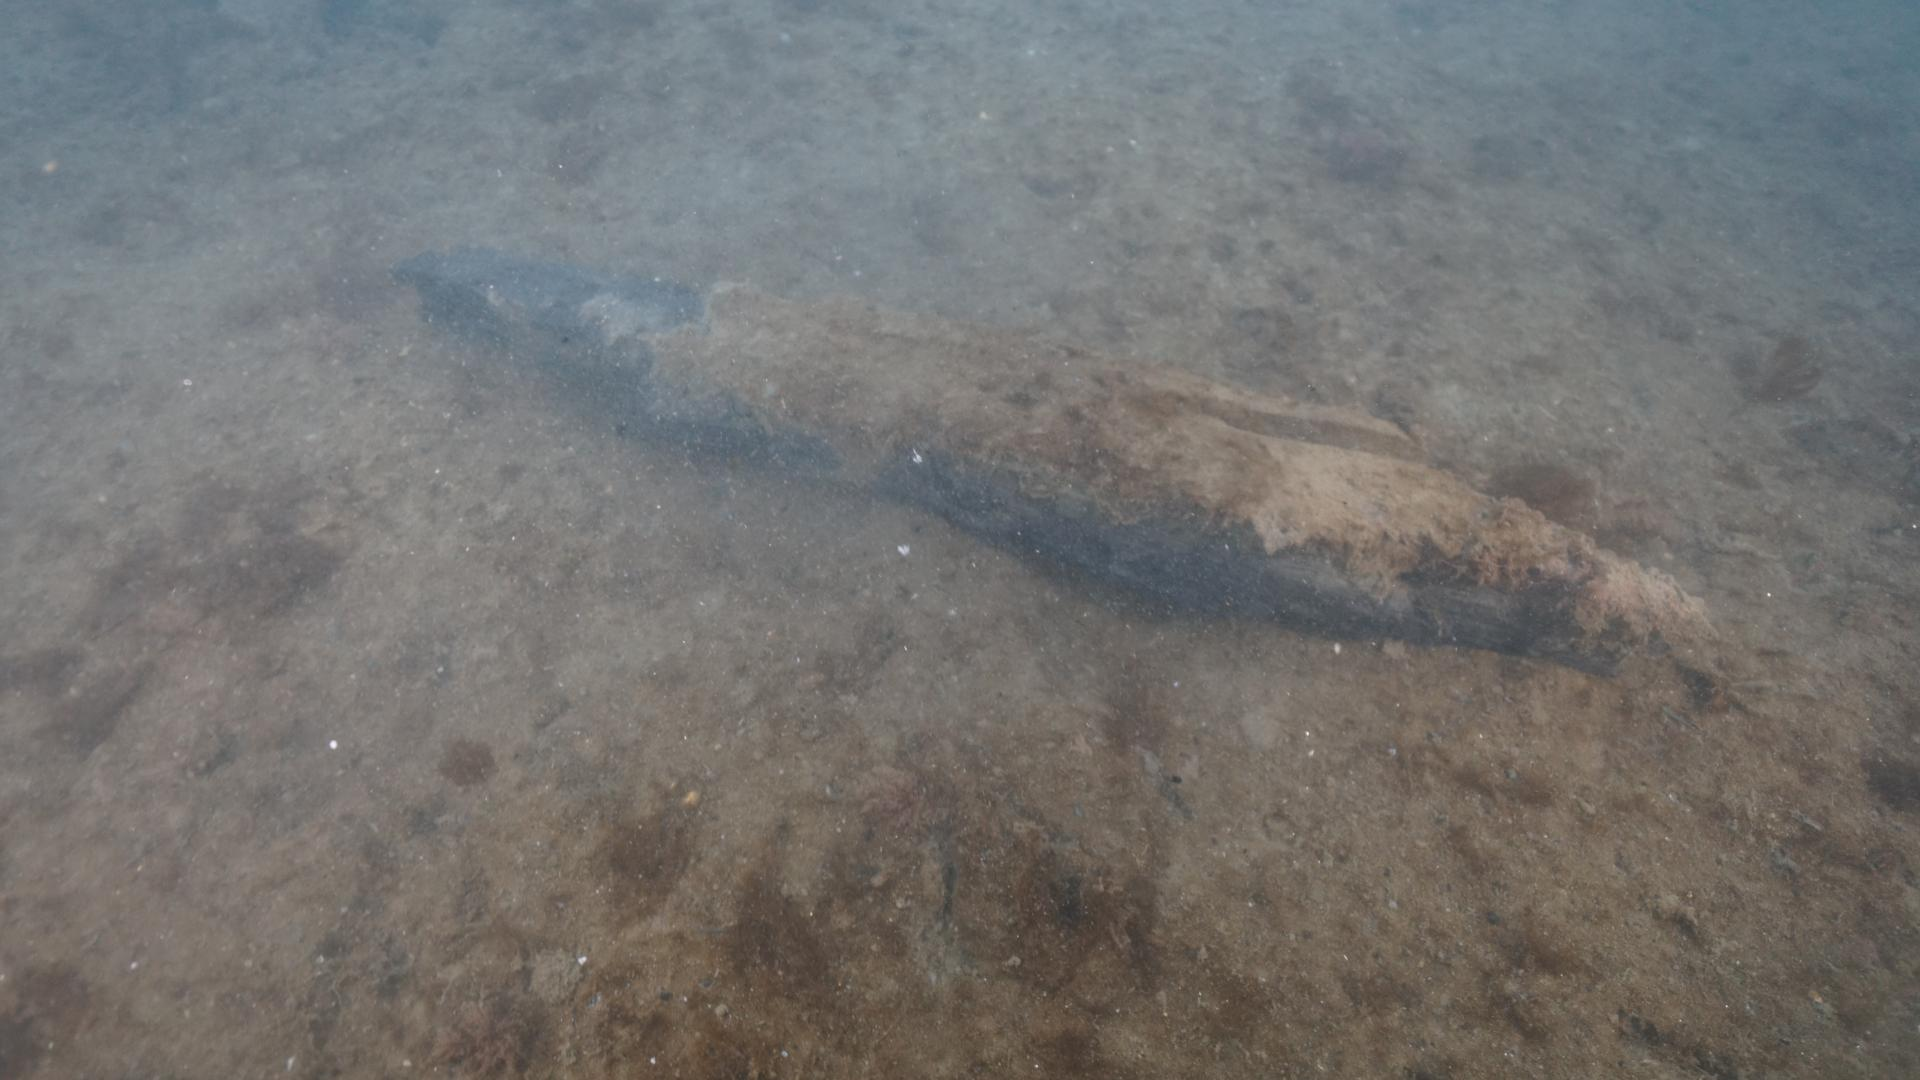wood: (390, 240, 1651, 678)
